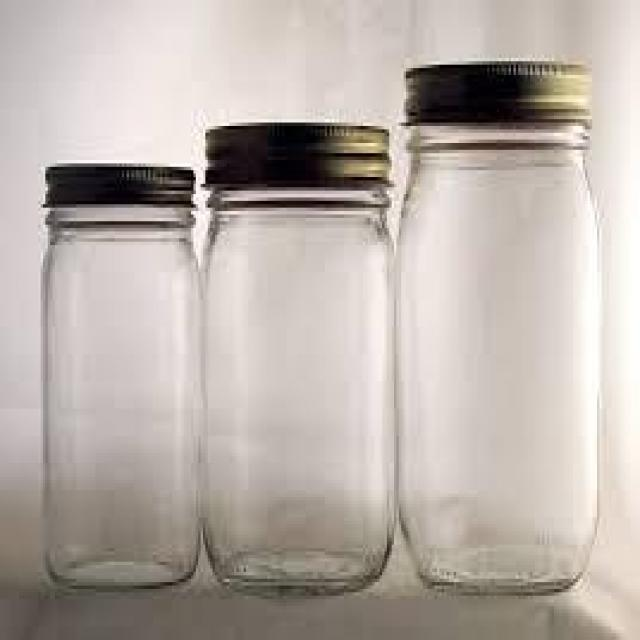non-organic waste: (195, 123, 404, 599)
